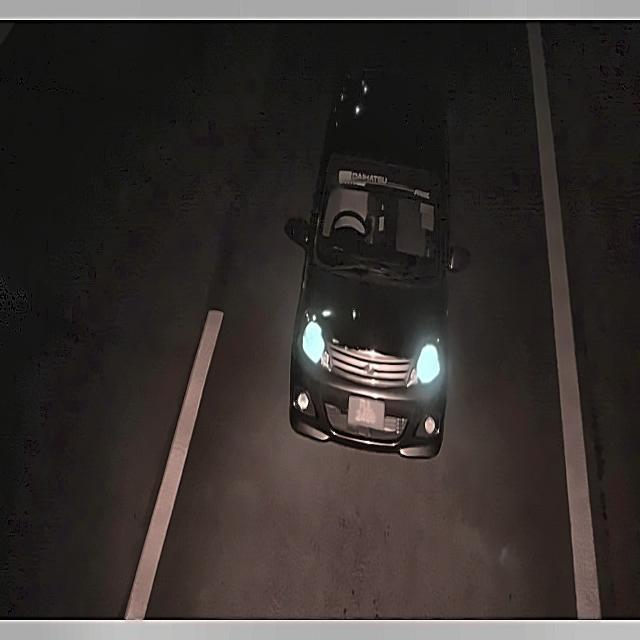car: (342, 392, 392, 438)
